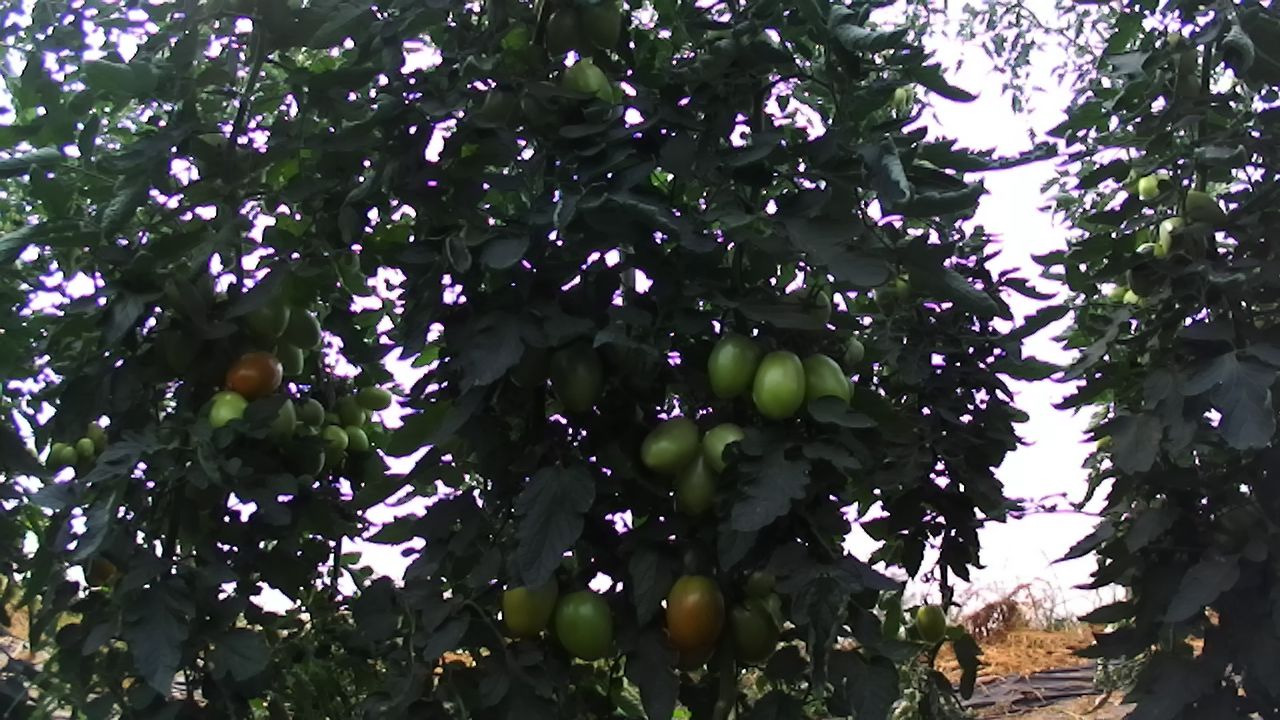tomato: (662, 570, 727, 653), (544, 334, 607, 417), (723, 589, 785, 671), (746, 346, 810, 425), (552, 586, 615, 663), (499, 569, 561, 642), (669, 444, 723, 526), (705, 329, 763, 403), (796, 344, 855, 416), (636, 413, 702, 477), (223, 347, 285, 399), (914, 601, 950, 648), (333, 392, 369, 428), (353, 384, 393, 412), (292, 395, 327, 426), (342, 420, 371, 454), (322, 422, 351, 453), (57, 444, 79, 468), (74, 435, 95, 460)
